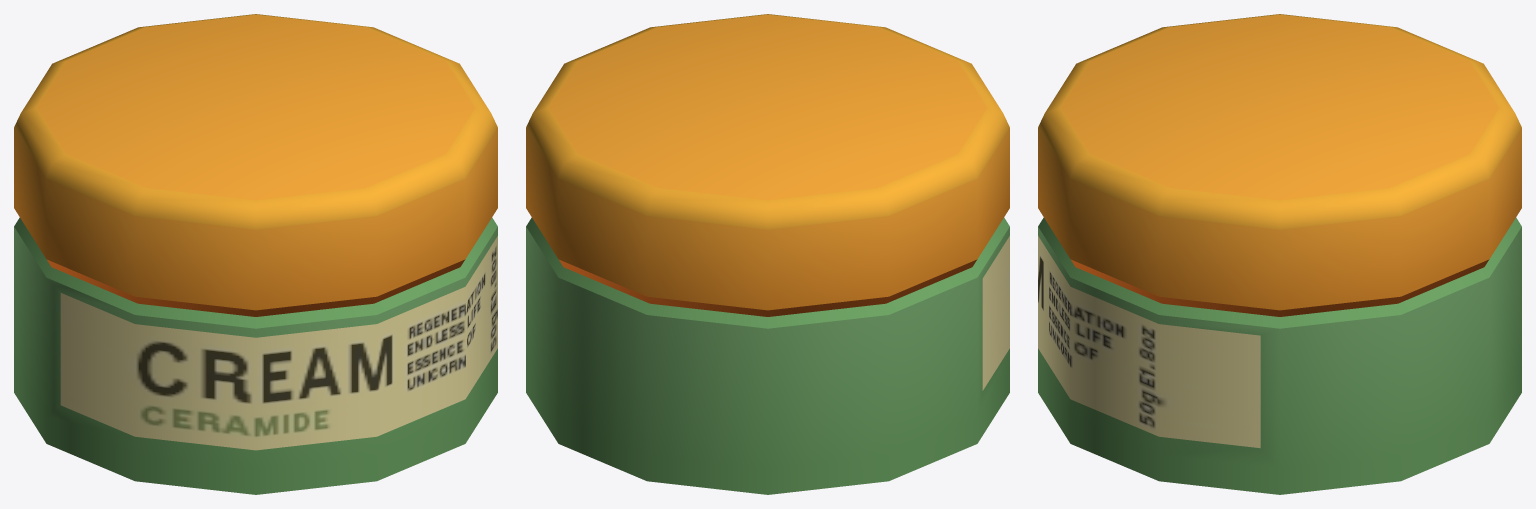
Rendered from Cream.fbx.
The picture shows the model from 3 angles, left to right: view 1: azimuth 30°, elevation 25°; view 2: azimuth 150°, elevation 25°; view 3: azimuth 270°, elevation 25°; orthographic projection.
Visible parts, largest first — view 1: Cream; view 2: Cream; view 3: Cream.
Boxes of the visible parts, left/top/right/bottom form: Cream: left=14, top=14, right=497, bottom=494; Cream: left=526, top=14, right=1009, bottom=494; Cream: left=1038, top=14, right=1521, bottom=494.
Size of the model in its own units: 4 by 2.6 by 4.
